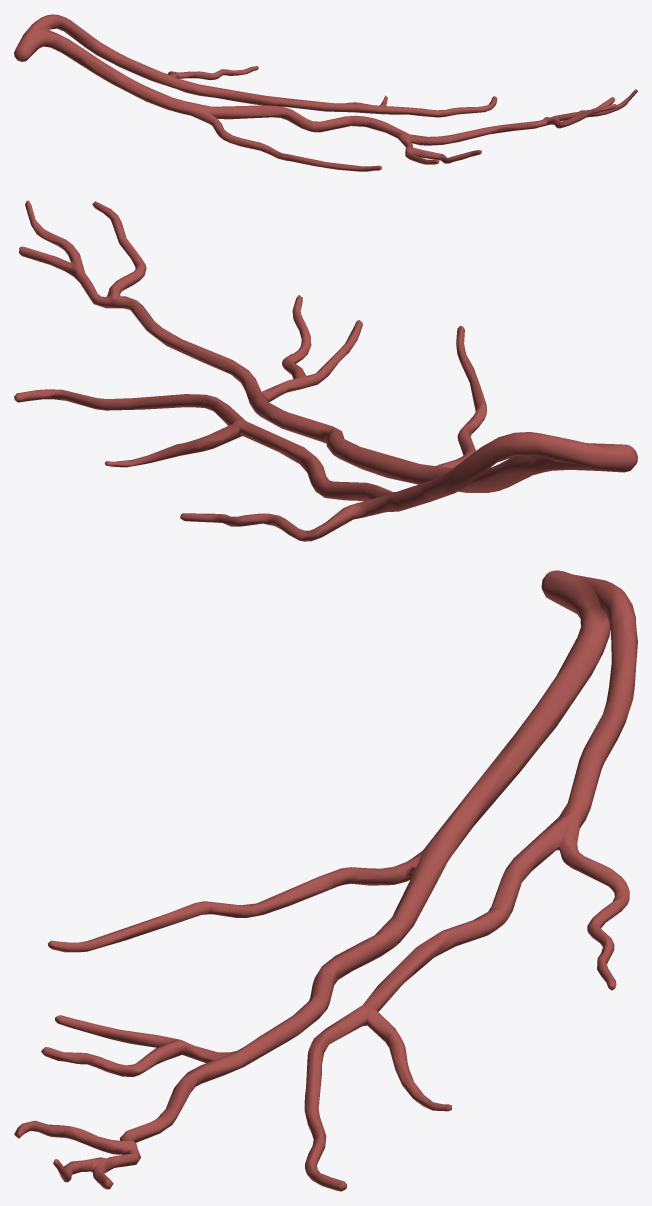
Rendered from FMA3840nsn.glb.
3 renders of one model, top to bottom at view 1: azimuth 30°, elevation 25°; view 2: azimuth 150°, elevation 25°; view 3: azimuth 270°, elevation 25°, orthographic. The views are drawn at different scales.
Visible parts, largest first — view 1: FMA3840nsn; view 2: FMA3840nsn; view 3: FMA3840nsn.
Boxes of the visible parts, x1,y1,x2,y2 form: FMA3840nsn: [14, 14, 637, 171]; FMA3840nsn: [14, 200, 637, 541]; FMA3840nsn: [14, 570, 637, 1191].
Size of the model in its own units: 0.0678 by 0.0165 by 0.0383.
